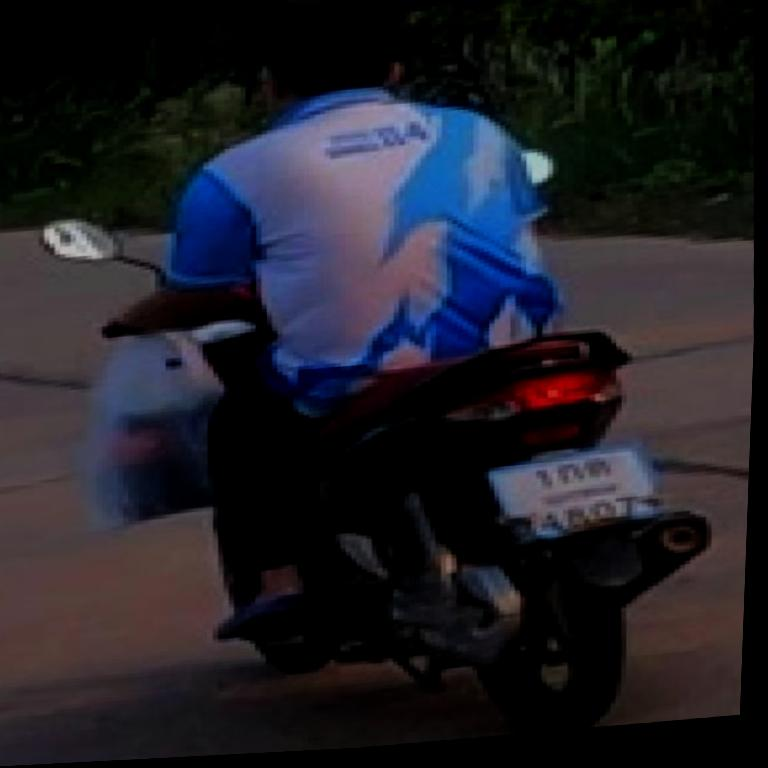license plate: (478, 438, 676, 554)
